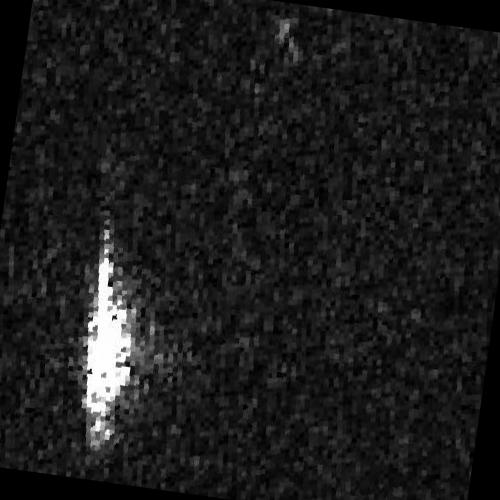ship: (83, 243, 134, 440)
